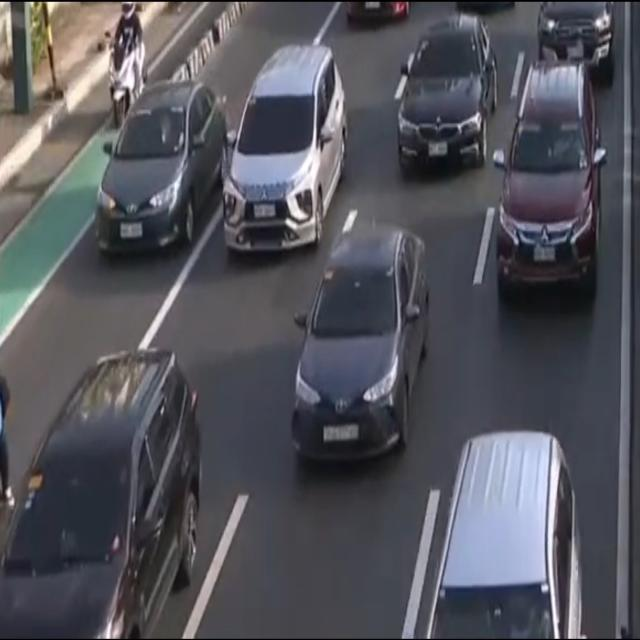SUV: (0, 345, 201, 640), (427, 428, 582, 640), (219, 43, 351, 257), (492, 59, 602, 308)
Sedan: (290, 228, 432, 473), (92, 84, 225, 266), (395, 13, 495, 176), (537, 0, 618, 65)
